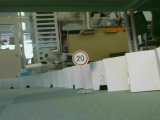speed_20: (72, 50, 89, 67)
